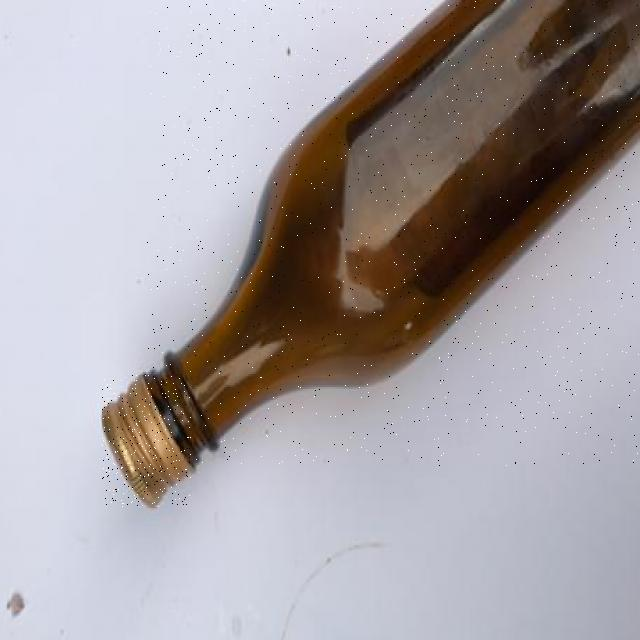glass: (148, 0, 640, 466)
metal: (103, 376, 191, 507)
